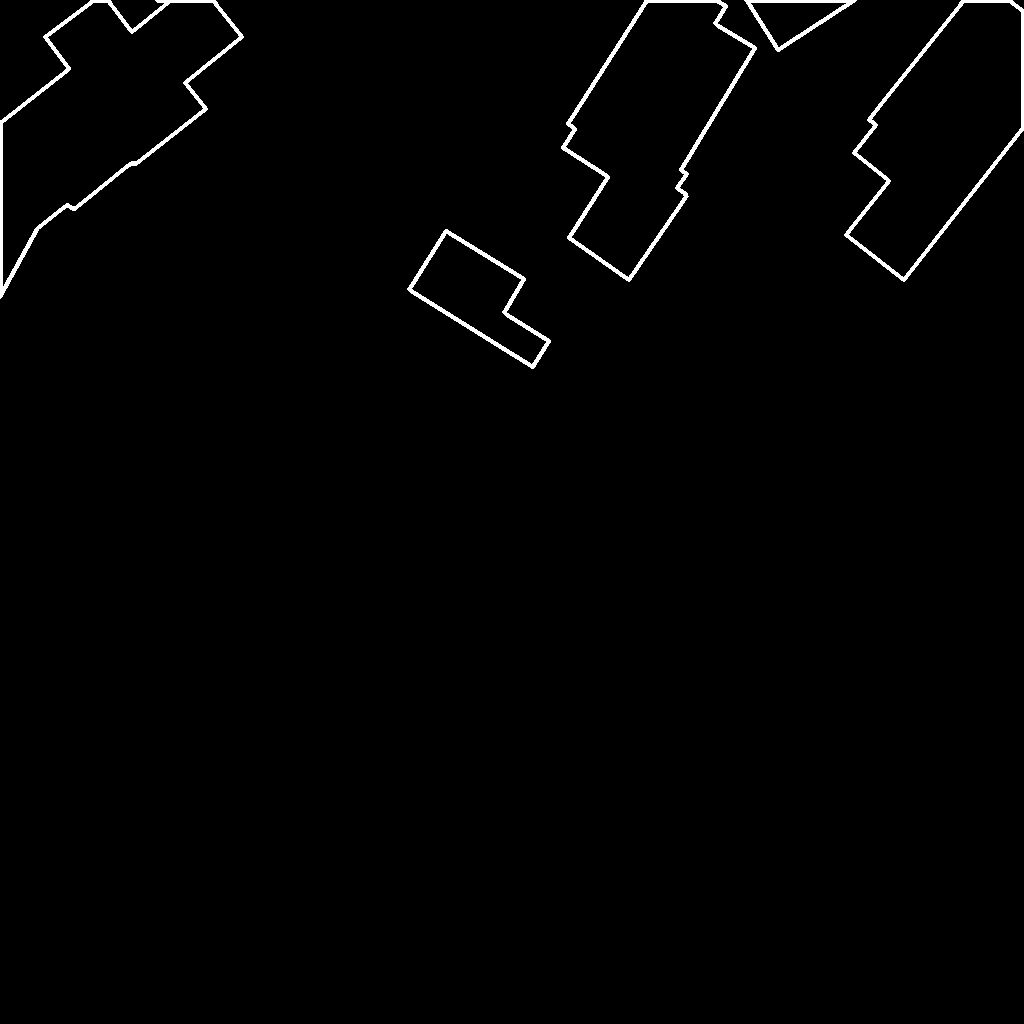building: (0, 0, 243, 298), (563, 0, 756, 281), (846, 0, 1024, 281), (409, 231, 550, 368), (746, 0, 856, 51)
